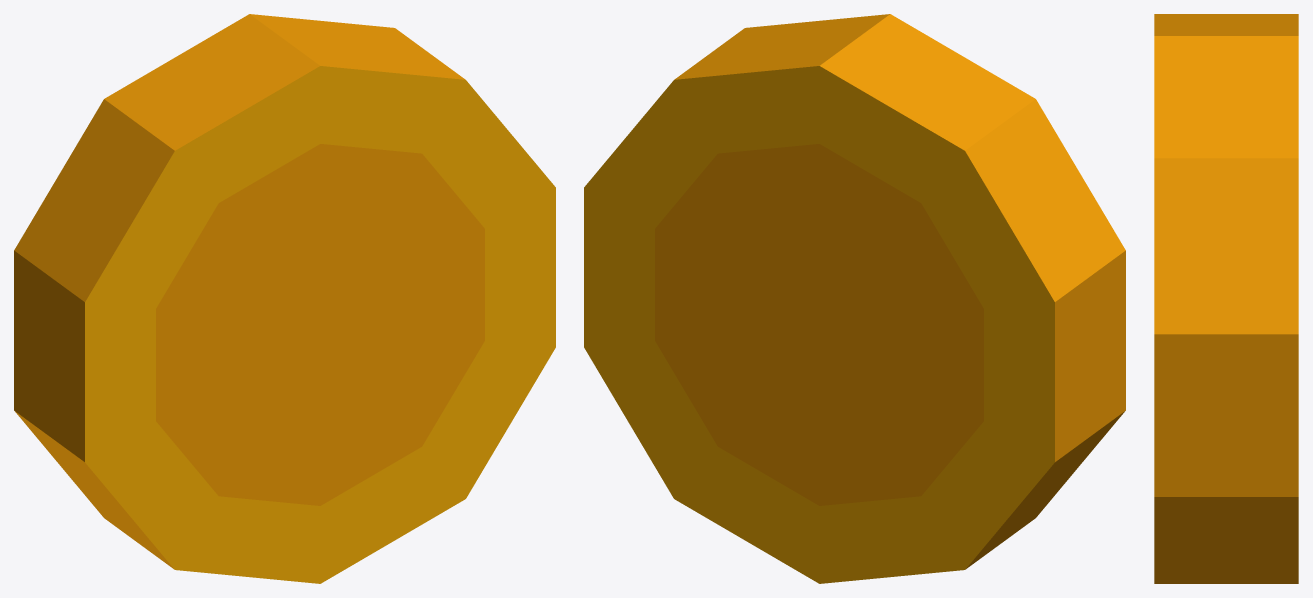
The model's file is Coin.fbx.
3 renders of one model, left to right at view 1: azimuth 30°, elevation 25°; view 2: azimuth 150°, elevation 25°; view 3: azimuth 270°, elevation 25°, orthographic.
Visible parts, largest first — view 1: Coin; view 2: Coin; view 3: Coin.
Part boxes in pixels (x1,y1,x2,y2): Coin: (14, 14, 555, 583); Coin: (584, 14, 1125, 583); Coin: (1154, 14, 1298, 583).
Bounding box in the file's own units: 129 × 136 × 33.76.
